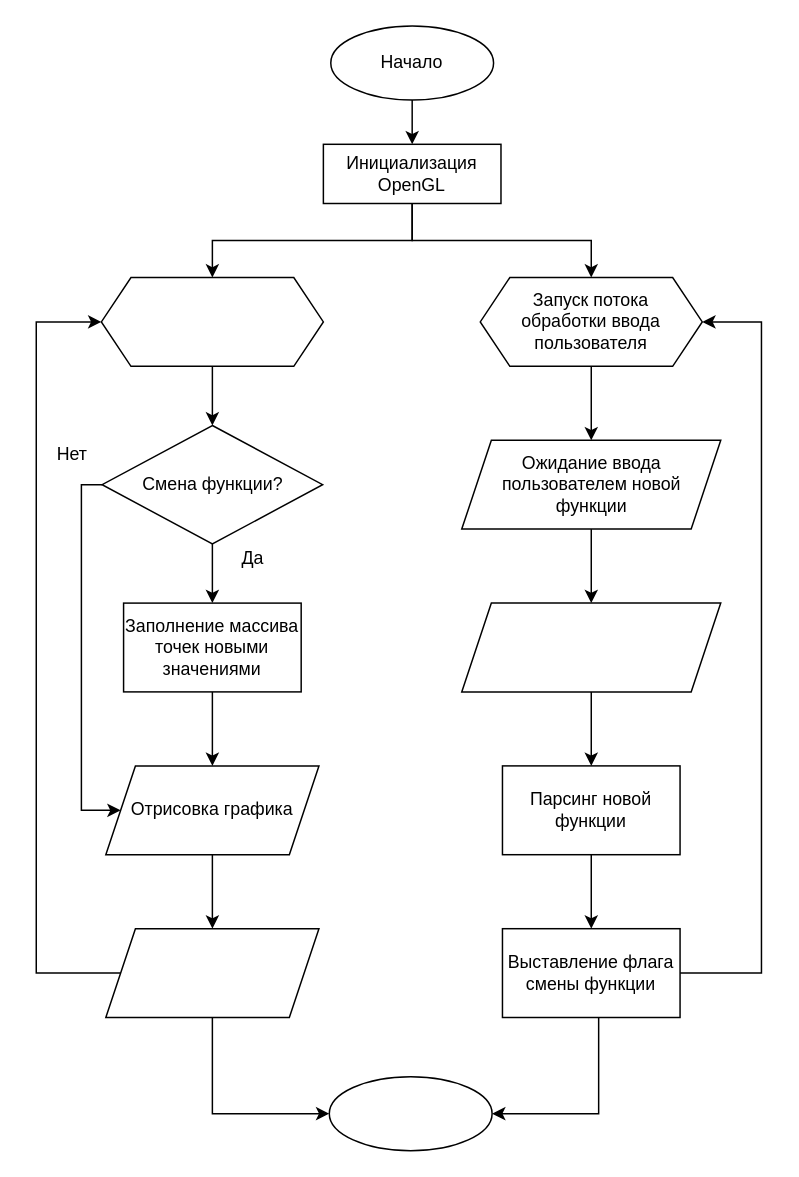
Some shapes in this 799 by 1177 pixel diagram are drawn without their labels. The shapes that lost their labels are listed below. From the top down, each one's box as (x1, y1, x2, y2) in pixels, then its label:
(100, 276, 323, 366): Запуск главного цикла OpenGL
(460, 602, 721, 692): Получение новой функции
(104, 927, 319, 1018): Отрисовка рамок
(328, 1075, 492, 1151): Конец
